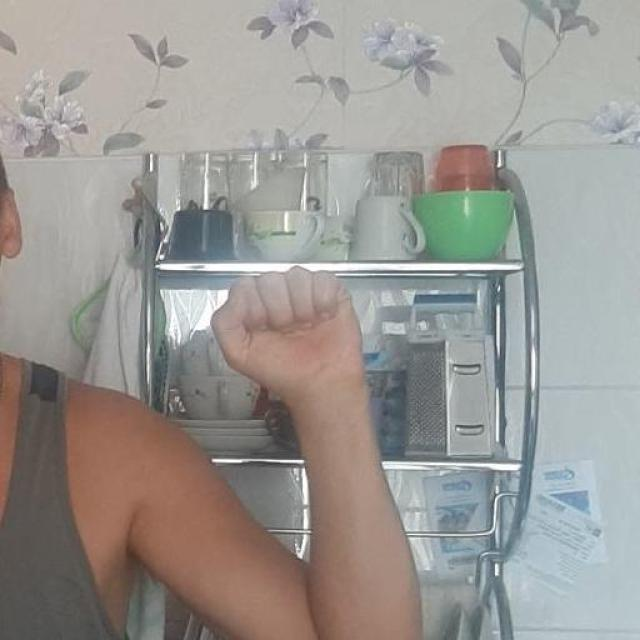hand: (210, 264, 368, 406)
